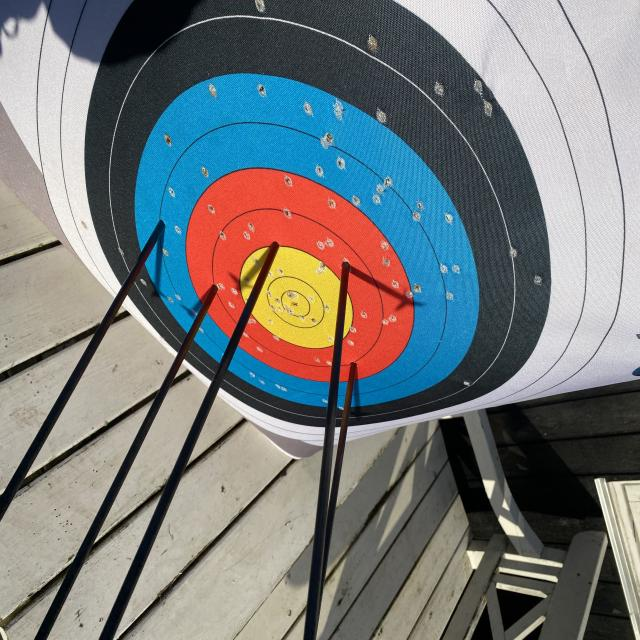Arrow_Blue: (148, 199, 177, 252)
Arrow_Red: (262, 230, 290, 270), (336, 250, 358, 296), (346, 352, 371, 392), (200, 280, 228, 312)
